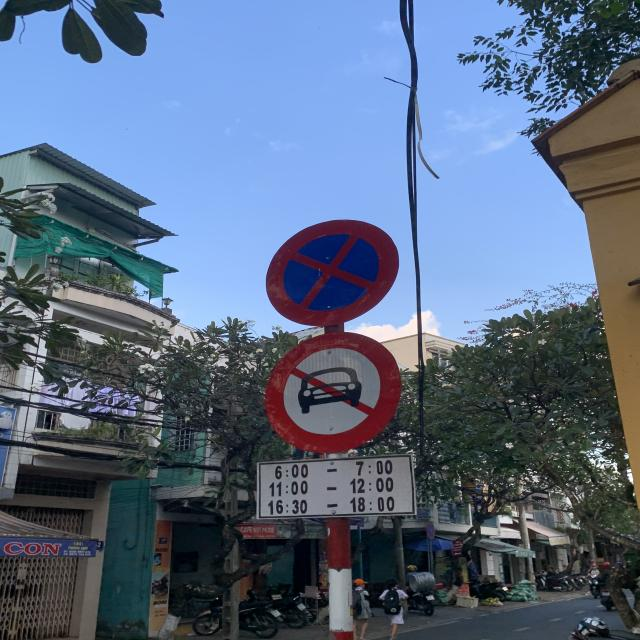Cam_Dung_Va_Dau_Xe: (266, 218, 400, 328)
Cam_O_To: (265, 332, 403, 456)
